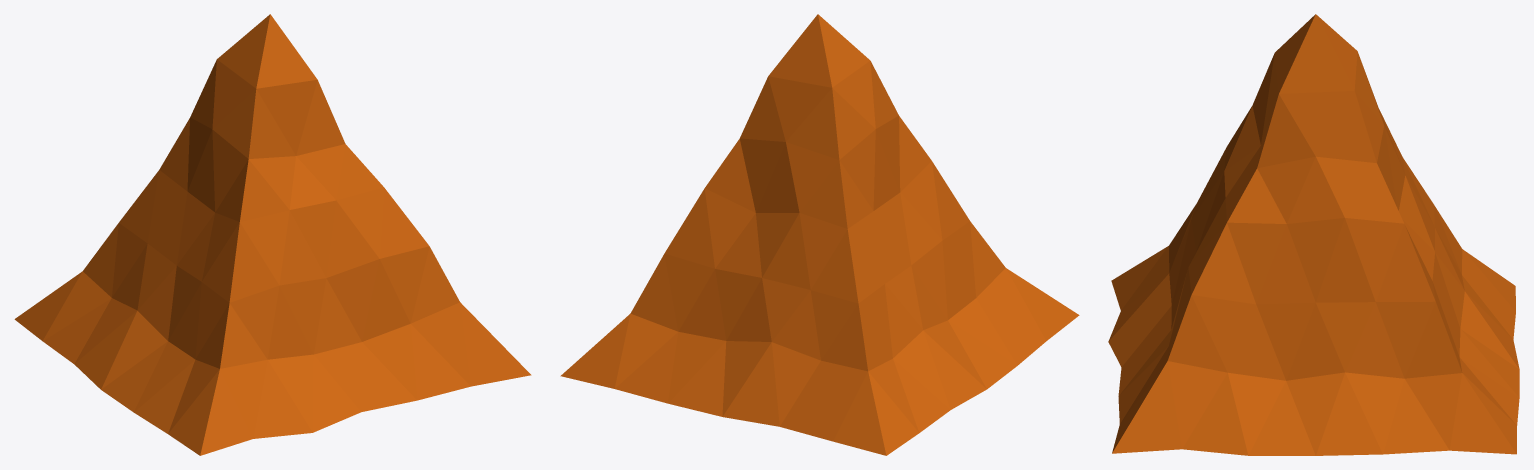
Rendered from balancingbase.fbx.
3 renders of one model, left to right at view 1: azimuth 30°, elevation 25°; view 2: azimuth 150°, elevation 25°; view 3: azimuth 270°, elevation 25°, orthographic. The views are drawn at different scales.
Visible parts, largest first — view 1: Pyramid; view 2: Pyramid; view 3: Pyramid.
Boxes of the visible parts, bbox=[...] form: Pyramid: bbox=[14, 14, 531, 455]; Pyramid: bbox=[560, 14, 1079, 455]; Pyramid: bbox=[1108, 14, 1519, 455].
Bounding box in the file's own units: 106 × 106 × 106.
